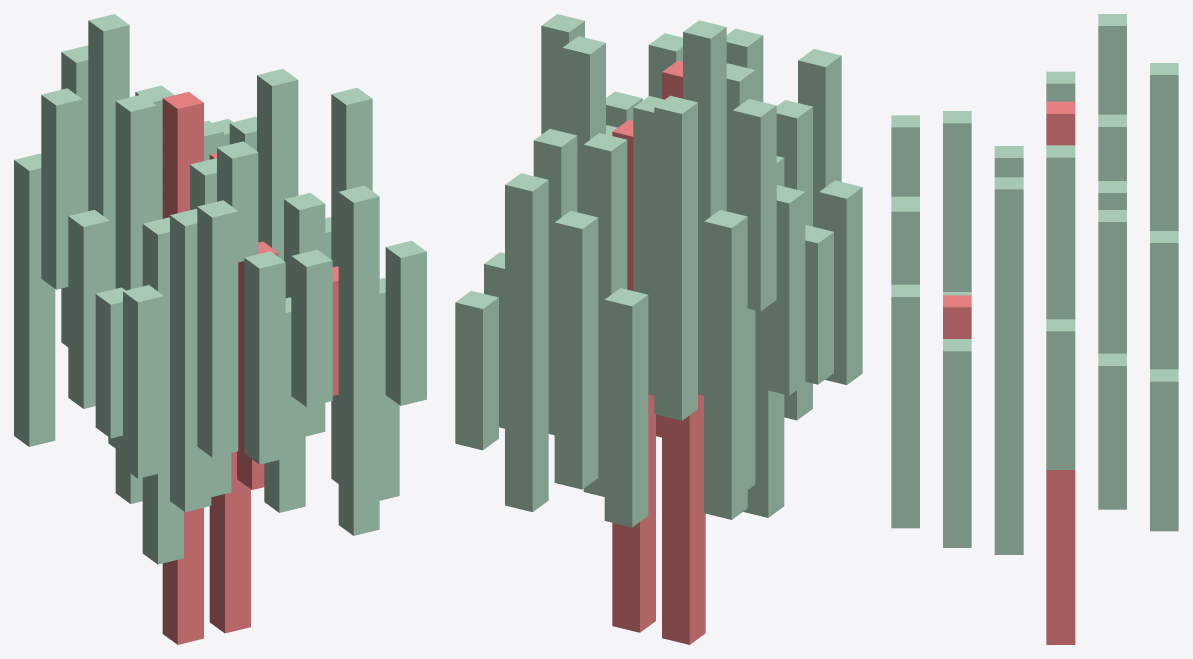
Rendered from nature_tree-abstract_v01.gltf.
3 renders of one model, left to right at view 1: azimuth 30°, elevation 25°; view 2: azimuth 150°, elevation 25°; view 3: azimuth 270°, elevation 25°, orthographic. The views are drawn at different scales.
Parts seen in each view (by area): view 1: mass 06, mass 13, mass 30, mass 14, mass 25, mass 12, mass 29, mass 32, mass 21, mass 33, mass 16, mass 23 (+16 smaller); view 2: mass 19, mass 02, mass 30, mass 03, mass 25, mass 20, mass 21, mass 33, mass 22, mass 27, mass 34, mass 01 (+14 smaller); view 3: mass 17, mass 23, mass 15, mass 34, mass 06, mass 02, mass 19, mass 18, mass 16, mass 09, mass 01, mass 04 (+10 smaller).
Boxes of the visible parts, x1,y1,x2,y2 form: mass 06: (338,185,379,535); mass 13: (197,200,238,457); mass 30: (14,153,55,446); mass 14: (170,209,211,511); mass 25: (162,92,203,644); mass 12: (244,251,285,464); mass 29: (115,94,156,503); mass 32: (123,285,163,478); mass 21: (88,14,129,290); mass 33: (41,88,82,289); mass 16: (385,240,426,405); mass 23: (257,69,298,260); mass 19: (505,173,548,511); mass 02: (654,95,697,420); mass 30: (704,210,747,519); mass 03: (554,211,598,489); mass 25: (662,60,705,644); mass 20: (604,288,648,527); mass 21: (683,20,726,395); mass 33: (733,99,776,311); mass 22: (583,133,627,496); mass 27: (761,185,805,395); mass 34: (612,120,655,632); mass 01: (455,290,498,450); mass 17: (994,177,1023,554); mass 23: (1046,145,1075,469); mass 15: (943,339,971,547); mass 34: (1046,470,1075,644); mass 06: (891,199,919,528); mass 02: (1150,63,1178,230); mass 19: (1150,231,1178,531); mass 18: (1098,353,1126,509); mass 16: (891,284,919,437); mass 09: (1098,210,1126,353); mass 01: (1150,369,1178,508); mass 04: (1046,319,1075,435).
Size of what is drawn, in the model's own units: 2.5 by 5.52 by 2.5.
